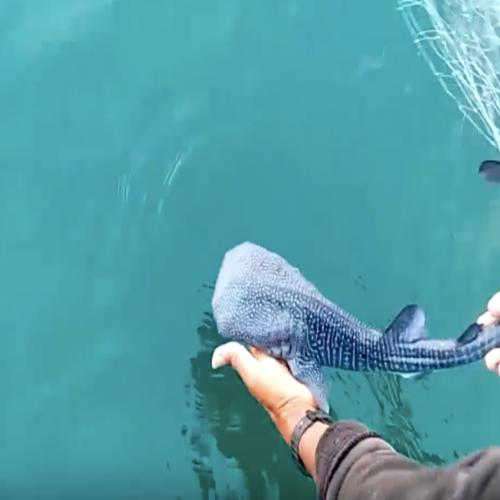shark-endangered: (212, 242, 500, 417)
